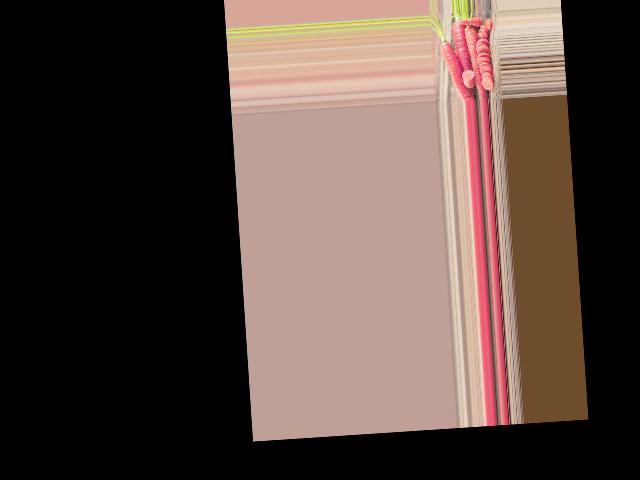carrot: (461, 20, 488, 101)
